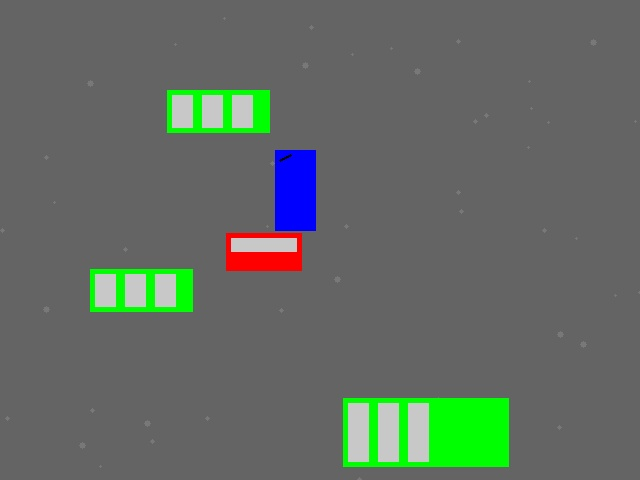bus: (343, 398, 508, 466), (167, 90, 269, 132), (90, 269, 192, 311)
car: (226, 233, 301, 270)
motorcycle: (275, 150, 315, 230)
